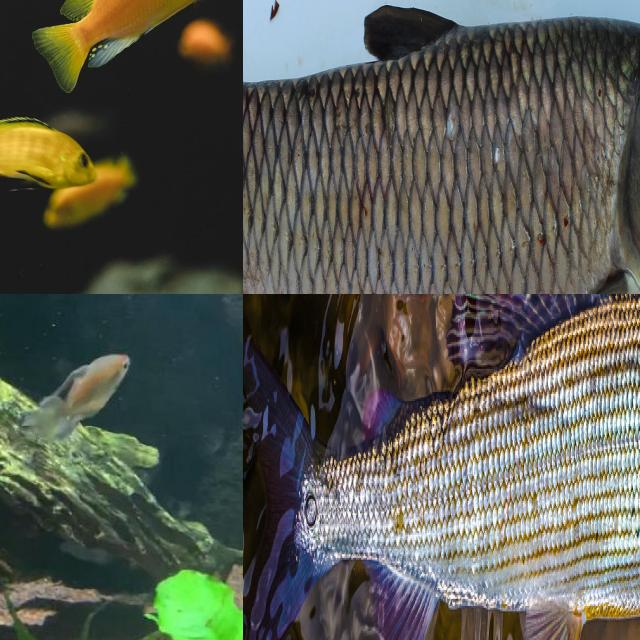fish: (243, 294, 640, 640), (243, 0, 640, 294), (0, 0, 243, 294)
